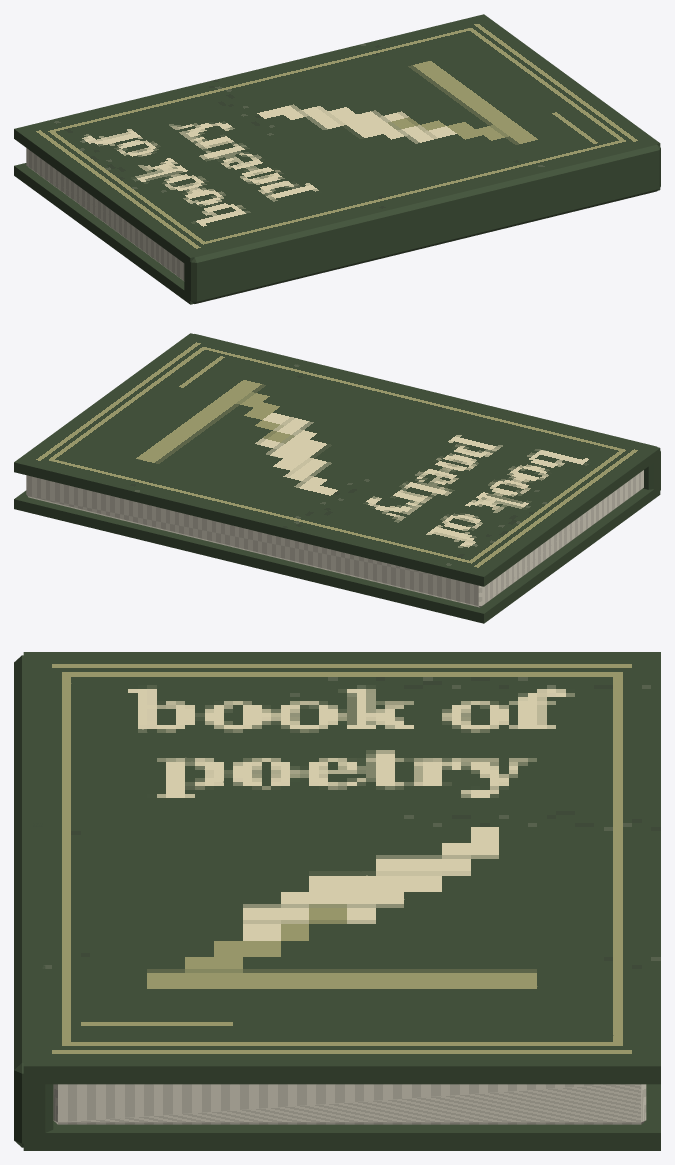
File: poetry_book.glb
3 renders of one model, top to bottom at view 1: azimuth 30°, elevation 25°; view 2: azimuth 150°, elevation 25°; view 3: azimuth 270°, elevation 25°, orthographic. The views are drawn at different scales.
Visible parts, largest first — view 1: block_front, block_spine, block_back, block_pages; view 2: block_front, block_pages, block_back, block_spine; view 3: block_front, block_pages, block_back, block_spine.
Boxes of the visible parts, x1,y1,x2,y2 form: block_front: (14,14,660,267); block_spine: (184,142,660,303); block_back: (14,163,660,304); block_pages: (26,148,184,280); block_front: (14,333,660,586); block_pages: (26,470,643,607); block_back: (14,486,660,623); block_spine: (189,334,660,491); block_front: (23,652,660,1084); block_pages: (53,1084,646,1124); block_back: (23,1084,660,1150); block_spine: (14,655,53,1147).
Size of the model in its own units: 0.2 by 0.019 by 0.132.
1 material, 1 textured.
